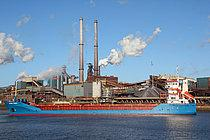Ship: (3, 93, 201, 119)
